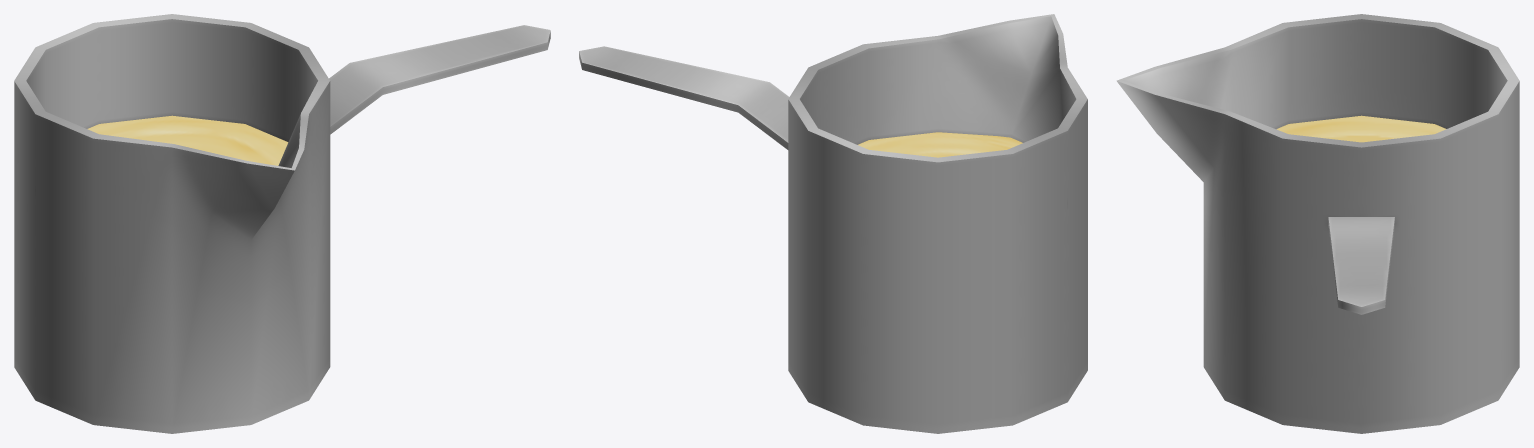
File: jsf_Dough_01.fbx
3 views of the same model, side by side, from view 1: azimuth 30°, elevation 25°; view 2: azimuth 150°, elevation 25°; view 3: azimuth 270°, elevation 25° (orthographic). The views are drawn at different scales.
Parts seen in each view (by area): view 1: jsf_Dough_01; view 2: jsf_Dough_01; view 3: jsf_Dough_01.
Part boxes in pixels (x1,y1,x2,y2): jsf_Dough_01: (14,14,550,433); jsf_Dough_01: (579,14,1087,433); jsf_Dough_01: (1116,14,1519,433).
Bounding box in the file's own units: 26.37 × 14 × 17.87.
